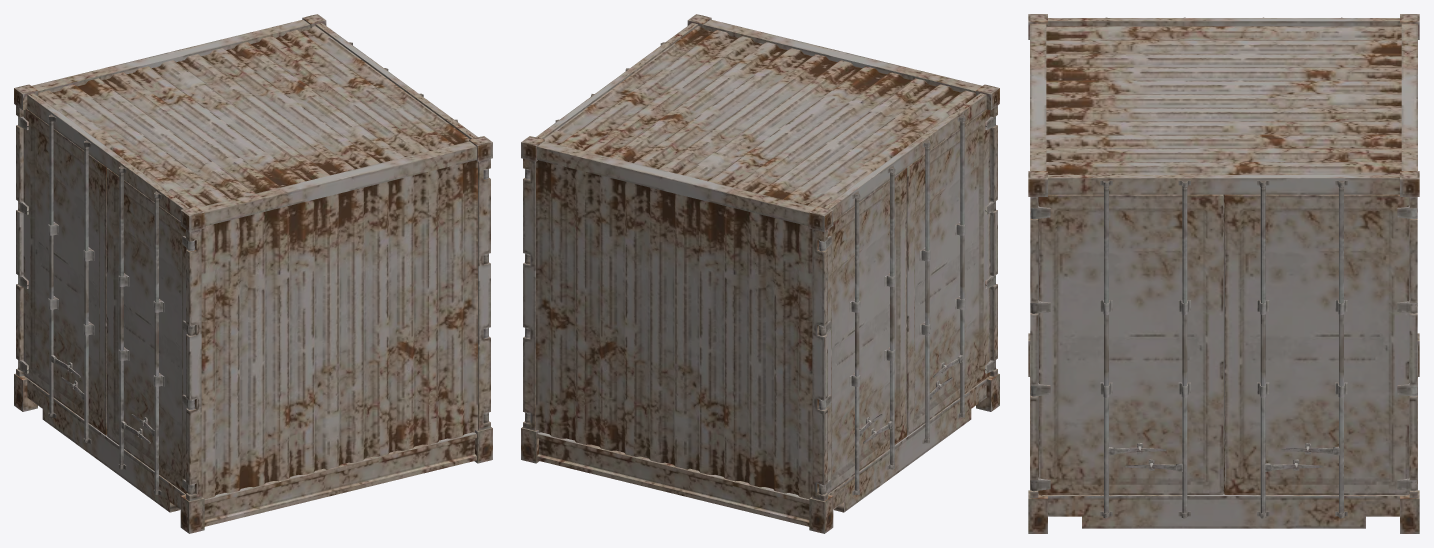
The model's file is shipping_container_300_a_green.glb.
3 renders of one model, left to right at view 1: azimuth 30°, elevation 25°; view 2: azimuth 150°, elevation 25°; view 3: azimuth 270°, elevation 25°, orthographic. The views are drawn at different scales.
Parts seen in each view (by area): view 1: shipping_container_300_a_green; view 2: shipping_container_300_a_green; view 3: shipping_container_300_a_green.
Boxes of the visible parts, left/top/right/bottom form: shipping_container_300_a_green: left=14, top=14, right=492, bottom=533; shipping_container_300_a_green: left=521, top=14, right=999, bottom=533; shipping_container_300_a_green: left=1028, top=14, right=1419, bottom=533.
Size of the model in its own units: 3.01 by 3 by 3.
Materials: 1 (1 with a texture image).
